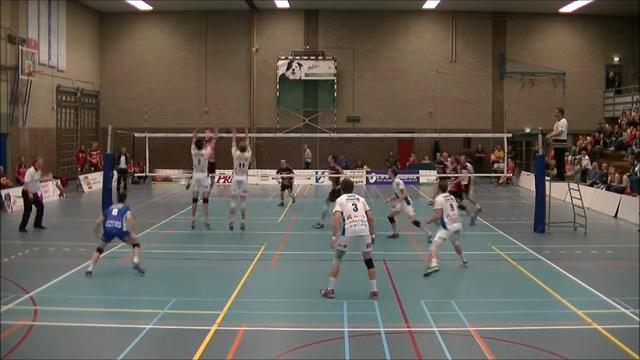Attack: (183, 118, 220, 193)
Block: (185, 125, 216, 232), (227, 123, 251, 230)
Player: (321, 178, 377, 299), (85, 192, 144, 276), (424, 181, 467, 275), (386, 168, 431, 239), (313, 154, 342, 228), (459, 155, 481, 225), (448, 155, 464, 209), (276, 160, 294, 205)
ball: (252, 43, 260, 55)
